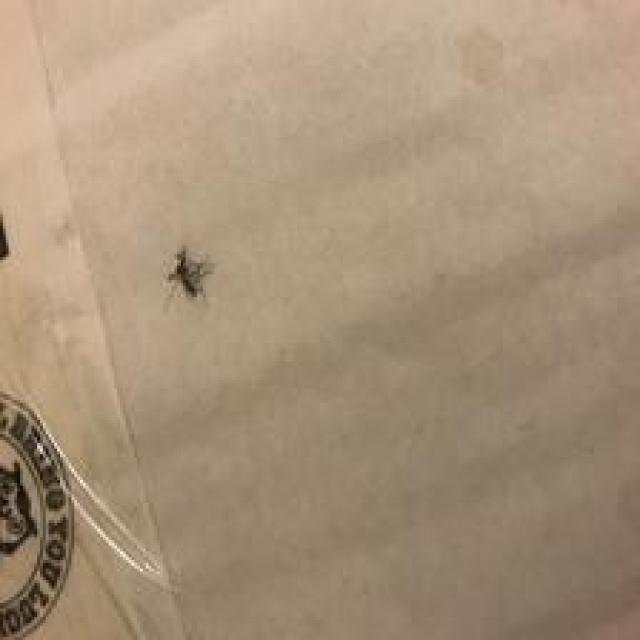Aedes albopictus: (166, 246, 211, 300)
